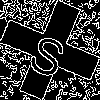S: (25, 25, 74, 80)
